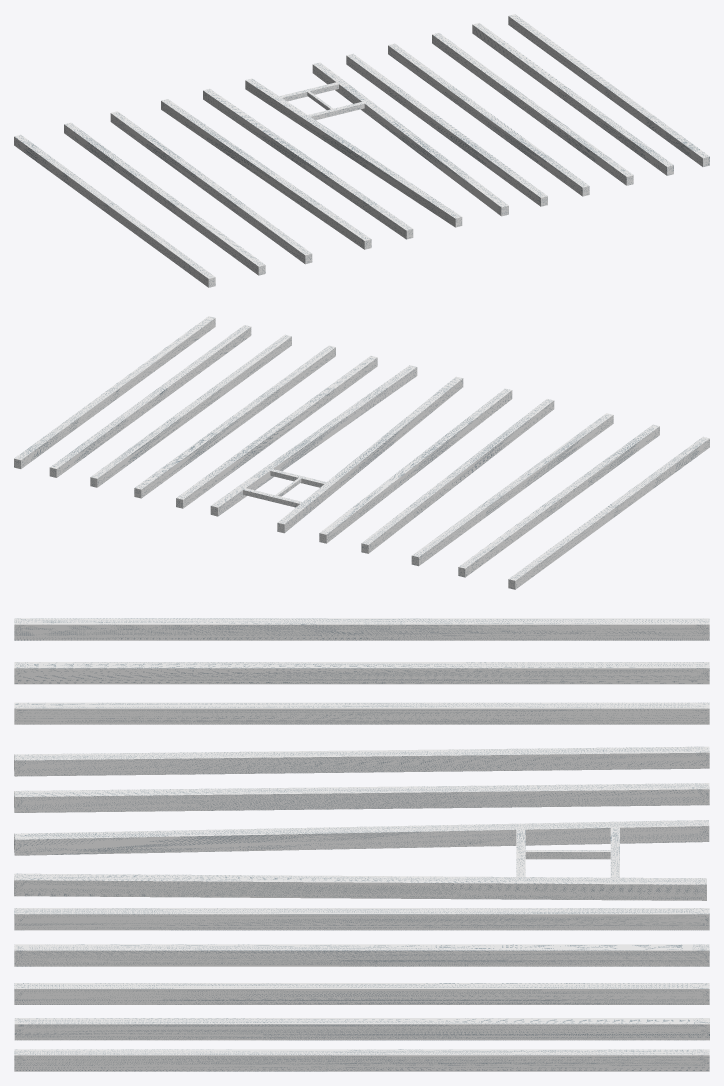
The model's file is tramy.obj.
The picture shows the model from 3 angles, top to bottom: view 1: azimuth 30°, elevation 25°; view 2: azimuth 150°, elevation 25°; view 3: azimuth 270°, elevation 25°; orthographic projection. The views are drawn at different scales.
Visible parts, largest first — view 1: Mesh5 spodni_tram_250x250_1 Group2 Model, Mesh9 spodni_tram_250x250_3 Group2 Model, Mesh7 spodni_tram_250x250_2 Group2 Model, Mesh25 spodni_tram_250x250_10 Group2 Model, Mesh19 spodni_tram_250x250_8 Group2 Model, Mesh13 spodni_tram_250x250_5 Group2 Model, Mesh15 spodni_tram_250x250_6 Group2 Model, Mesh17 spodni_tram_250x250_7 Group2 Model, Mesh23 spodni_tram_250x250_9 Group2 Model, Mesh27 spodni_tram_250x250_11 Group2 Model, Mesh11 spodni_tram_250x250_4 Group2 Model, Mesh21 spodni_tram_250x250_var2_1 Group2 Model (+1 smaller); view 2: Mesh21 spodni_tram_250x250_var2_1 Group2 Model, Mesh25 spodni_tram_250x250_10 Group2 Model, Mesh13 spodni_tram_250x250_5 Group2 Model, Mesh19 spodni_tram_250x250_8 Group2 Model, Mesh11 spodni_tram_250x250_4 Group2 Model, Mesh17 spodni_tram_250x250_7 Group2 Model, Mesh27 spodni_tram_250x250_11 Group2 Model, Mesh15 spodni_tram_250x250_6 Group2 Model, Mesh23 spodni_tram_250x250_9 Group2 Model, Mesh9 spodni_tram_250x250_3 Group2 Model, Mesh7 spodni_tram_250x250_2 Group2 Model, Mesh5 spodni_tram_250x250_1 Group2 Model (+1 smaller); view 3: Mesh21 spodni_tram_250x250_var2_1 Group2 Model, Mesh15 spodni_tram_250x250_6 Group2 Model, Mesh17 spodni_tram_250x250_7 Group2 Model, Mesh19 spodni_tram_250x250_8 Group2 Model, Mesh23 spodni_tram_250x250_9 Group2 Model, Mesh25 spodni_tram_250x250_10 Group2 Model, Mesh27 spodni_tram_250x250_11 Group2 Model, Mesh13 spodni_tram_250x250_5 Group2 Model, Mesh9 spodni_tram_250x250_3 Group2 Model, Mesh7 spodni_tram_250x250_2 Group2 Model, Mesh5 spodni_tram_250x250_1 Group2 Model, Mesh11 spodni_tram_250x250_4 Group2 Model (+1 smaller).
Part boxes in pixels (x1,y1,x2,y2): Mesh5 spodni_tram_250x250_1 Group2 Model: [245, 78, 462, 227]; Mesh9 spodni_tram_250x250_3 Group2 Model: [203, 88, 413, 239]; Mesh7 spodni_tram_250x250_2 Group2 Model: [161, 99, 371, 249]; Mesh25 spodni_tram_250x250_10 Group2 Model: [110, 111, 312, 264]; Mesh19 spodni_tram_250x250_8 Group2 Model: [346, 53, 547, 206]; Mesh13 spodni_tram_250x250_5 Group2 Model: [472, 23, 673, 175]; Mesh15 spodni_tram_250x250_6 Group2 Model: [508, 14, 709, 166]; Mesh17 spodni_tram_250x250_7 Group2 Model: [388, 43, 589, 196]; Mesh23 spodni_tram_250x250_9 Group2 Model: [14, 135, 215, 287]; Mesh27 spodni_tram_250x250_11 Group2 Model: [64, 122, 265, 275]; Mesh11 spodni_tram_250x250_4 Group2 Model: [432, 33, 633, 185]; Mesh21 spodni_tram_250x250_var2_1 Group2 Model: [312, 62, 508, 216]; Mesh21 spodni_tram_250x250_var2_1 Group2 Model: [210, 365, 417, 516]; Mesh25 spodni_tram_250x250_10 Group2 Model: [411, 413, 613, 566]; Mesh13 spodni_tram_250x250_5 Group2 Model: [49, 325, 251, 477]; Mesh19 spodni_tram_250x250_8 Group2 Model: [176, 355, 377, 508]; Mesh11 spodni_tram_250x250_4 Group2 Model: [90, 334, 291, 487]; Mesh17 spodni_tram_250x250_7 Group2 Model: [134, 345, 335, 498]; Mesh27 spodni_tram_250x250_11 Group2 Model: [458, 424, 659, 577]; Mesh15 spodni_tram_250x250_6 Group2 Model: [14, 316, 215, 468]; Mesh23 spodni_tram_250x250_9 Group2 Model: [508, 437, 709, 589]; Mesh9 spodni_tram_250x250_3 Group2 Model: [319, 388, 512, 543]; Mesh7 spodni_tram_250x250_2 Group2 Model: [361, 399, 554, 553]; Mesh5 spodni_tram_250x250_1 Group2 Model: [277, 376, 463, 533]; Mesh21 spodni_tram_250x250_var2_1 Group2 Model: [14, 873, 706, 900]; Mesh15 spodni_tram_250x250_6 Group2 Model: [14, 1049, 709, 1071]; Mesh17 spodni_tram_250x250_7 Group2 Model: [14, 944, 709, 966]; Mesh19 spodni_tram_250x250_8 Group2 Model: [14, 908, 709, 930]; Mesh23 spodni_tram_250x250_9 Group2 Model: [14, 618, 709, 640]; Mesh25 spodni_tram_250x250_10 Group2 Model: [14, 702, 709, 724]; Mesh27 spodni_tram_250x250_11 Group2 Model: [14, 662, 709, 684]; Mesh13 spodni_tram_250x250_5 Group2 Model: [14, 1018, 709, 1040]; Mesh9 spodni_tram_250x250_3 Group2 Model: [14, 783, 709, 812]; Mesh7 spodni_tram_250x250_2 Group2 Model: [14, 746, 709, 776]; Mesh5 spodni_tram_250x250_1 Group2 Model: [14, 820, 709, 855]; Mesh11 spodni_tram_250x250_4 Group2 Model: [14, 983, 709, 1004].
Bounding box in the file's own units: 19.89 × 0.34 × 13.39.
